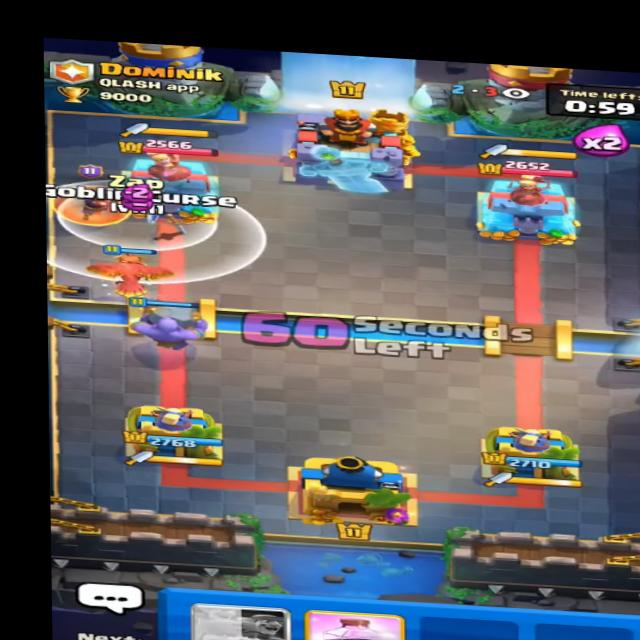evo-wizard: (52, 163, 132, 233)
